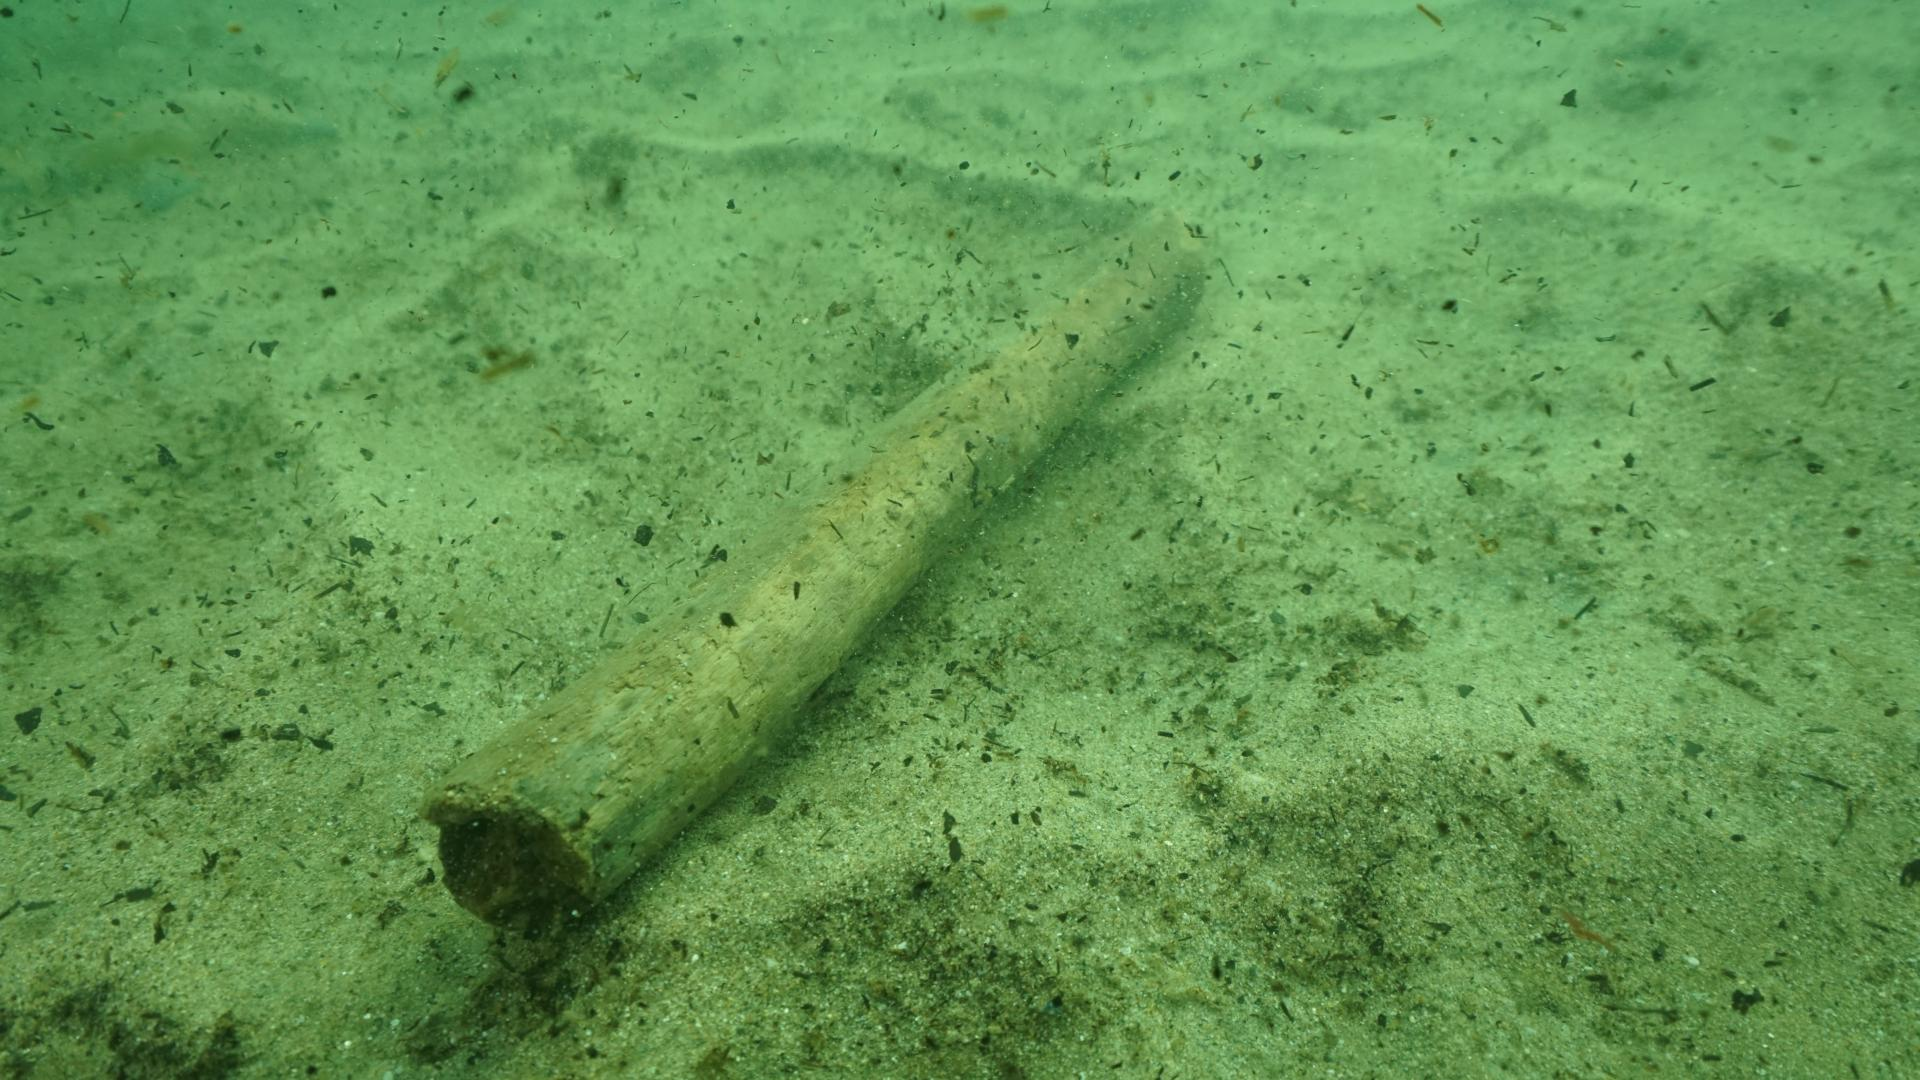wood: (417, 203, 1203, 945)
